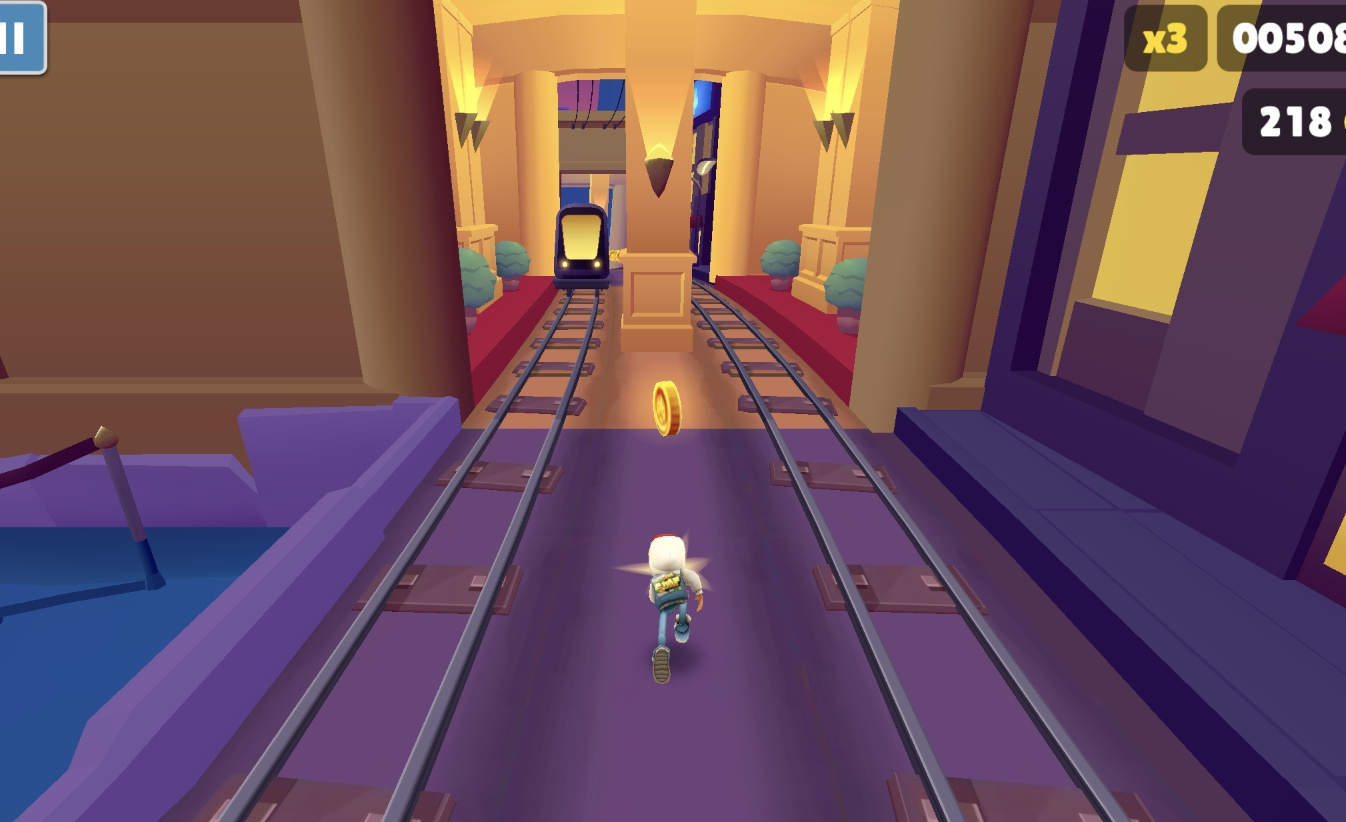pillar: (620, 0, 700, 348)
train: (552, 204, 612, 294)
